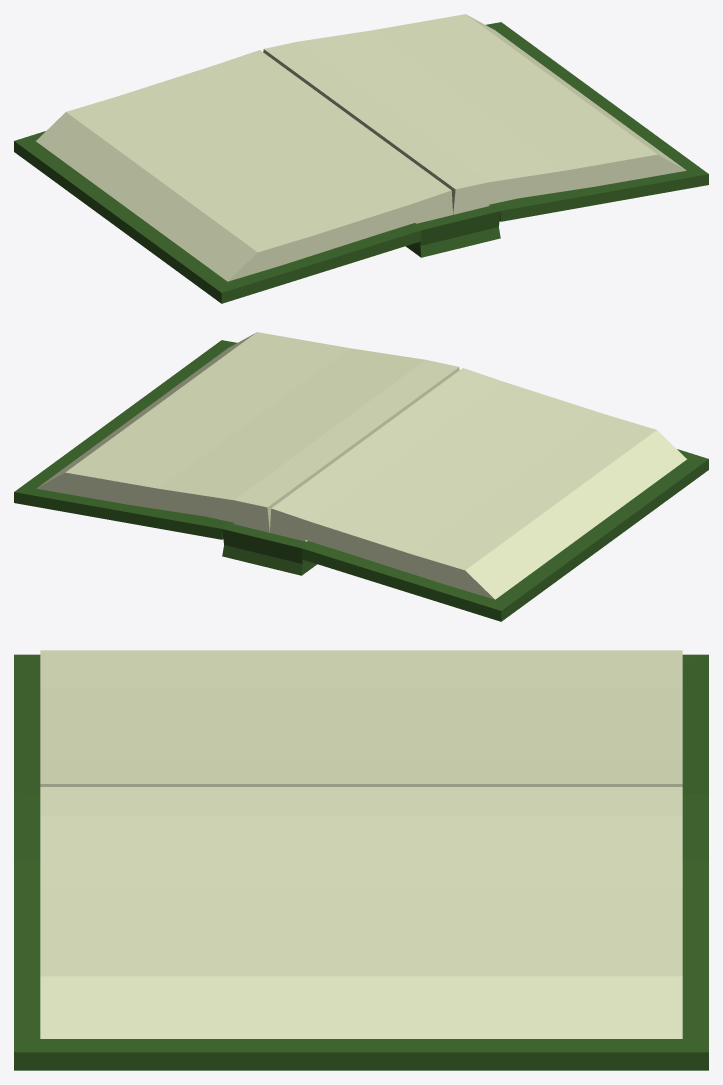
File: BOOK_V1.fbx
3 renders of one model, top to bottom at view 1: azimuth 30°, elevation 25°; view 2: azimuth 150°, elevation 25°; view 3: azimuth 270°, elevation 25°, orthographic. The views are drawn at different scales.
Parts seen in each view (by area): view 1: Cube; view 2: Cube; view 3: Cube.
Boxes of the visible parts, x1=… form: Cube: x1=14, y1=14, x2=708, y2=303; Cube: x1=14, y1=332, x2=708, y2=621; Cube: x1=14, y1=650, x2=708, y2=1070.
Size of the model in its own units: 490 by 50.33 by 362.
